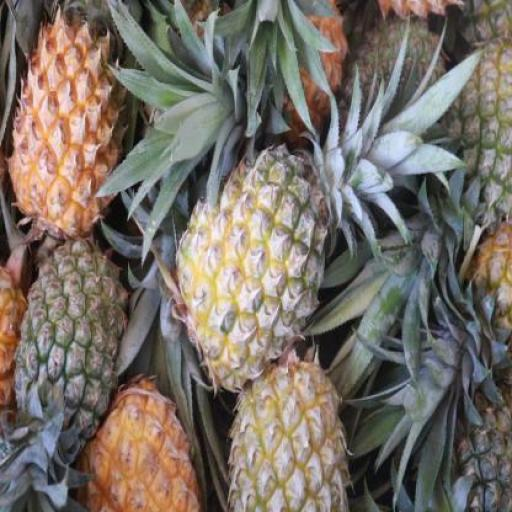------------------------------: (182, 146, 335, 393), (225, 354, 347, 512)
Pineapple - v8 v1: (9, 11, 121, 238), (81, 370, 201, 511)
